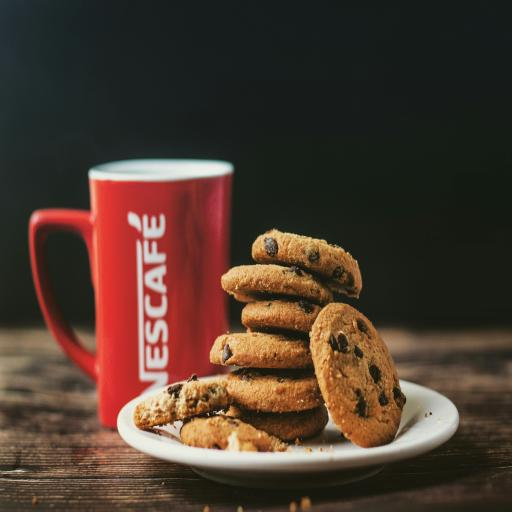phone: (28, 159, 234, 431)
